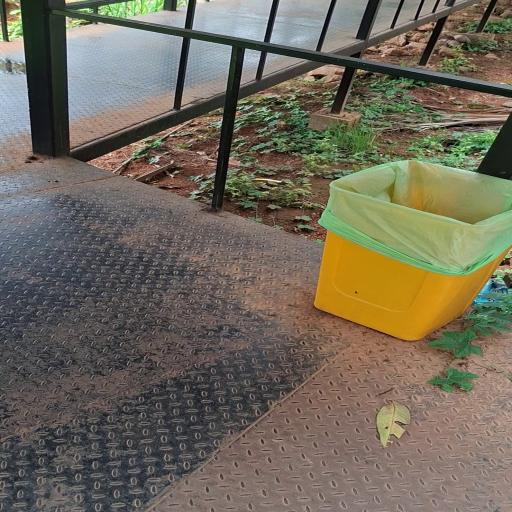Nilkamal-dustbin-detection: (316, 161, 512, 340)
